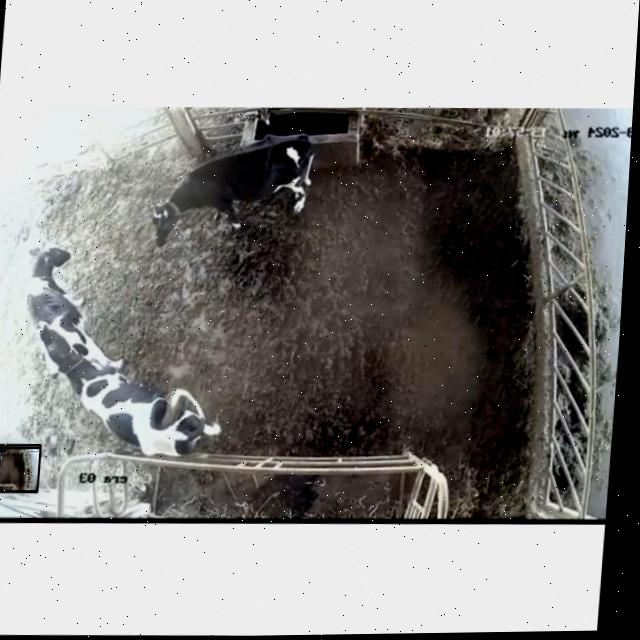propping: (16, 299, 122, 398)
